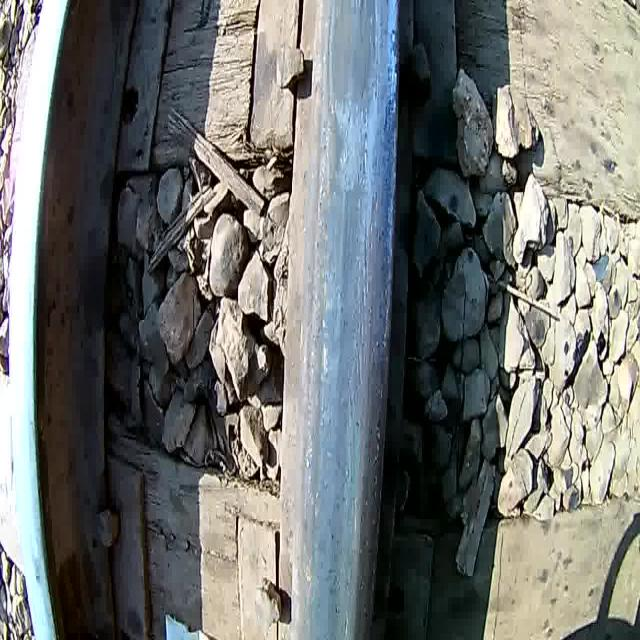Squats: (275, 0, 418, 640)
